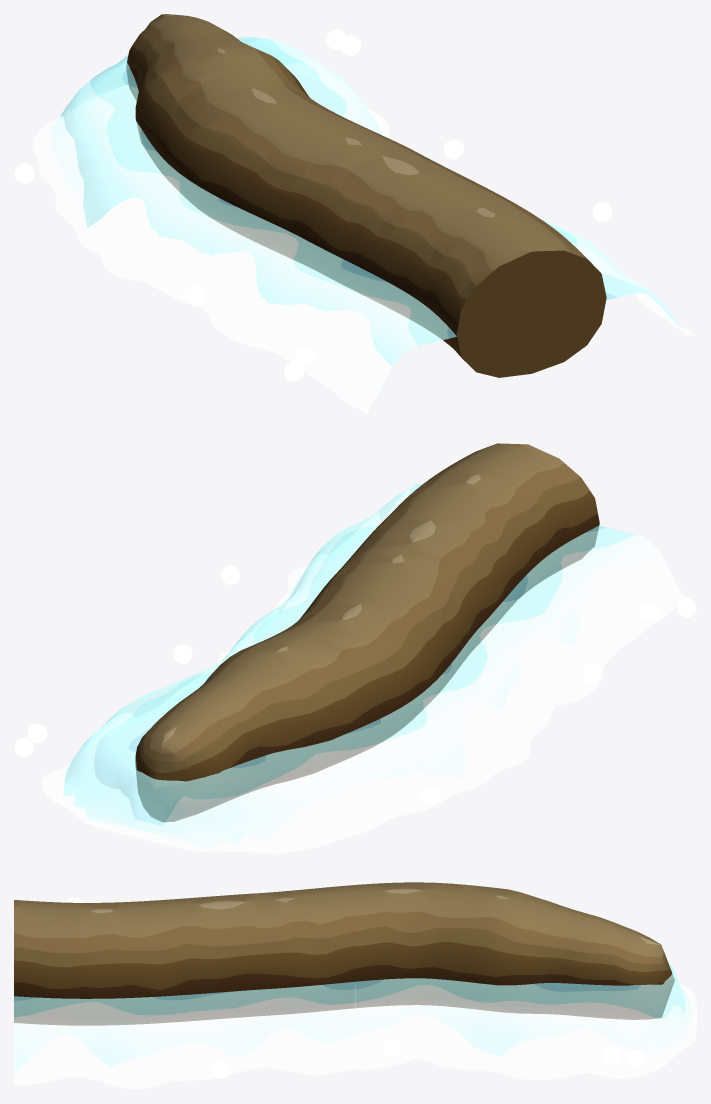
File: coral_eel_5.glb
The picture shows the model from 3 angles, top to bottom: view 1: azimuth 30°, elevation 25°; view 2: azimuth 150°, elevation 25°; view 3: azimuth 270°, elevation 25°; orthographic projection. The views are drawn at different scales.
Visible parts, largest first — view 1: coral_eel_5; view 2: coral_eel_5; view 3: coral_eel_5.
Boxes of the visible parts, x1,y1,x2,y2 form: coral_eel_5: [14, 14, 696, 414]; coral_eel_5: [14, 443, 696, 853]; coral_eel_5: [14, 882, 696, 1089].
Bounding box in the file's own units: 16.72 × 4.87 × 28.
